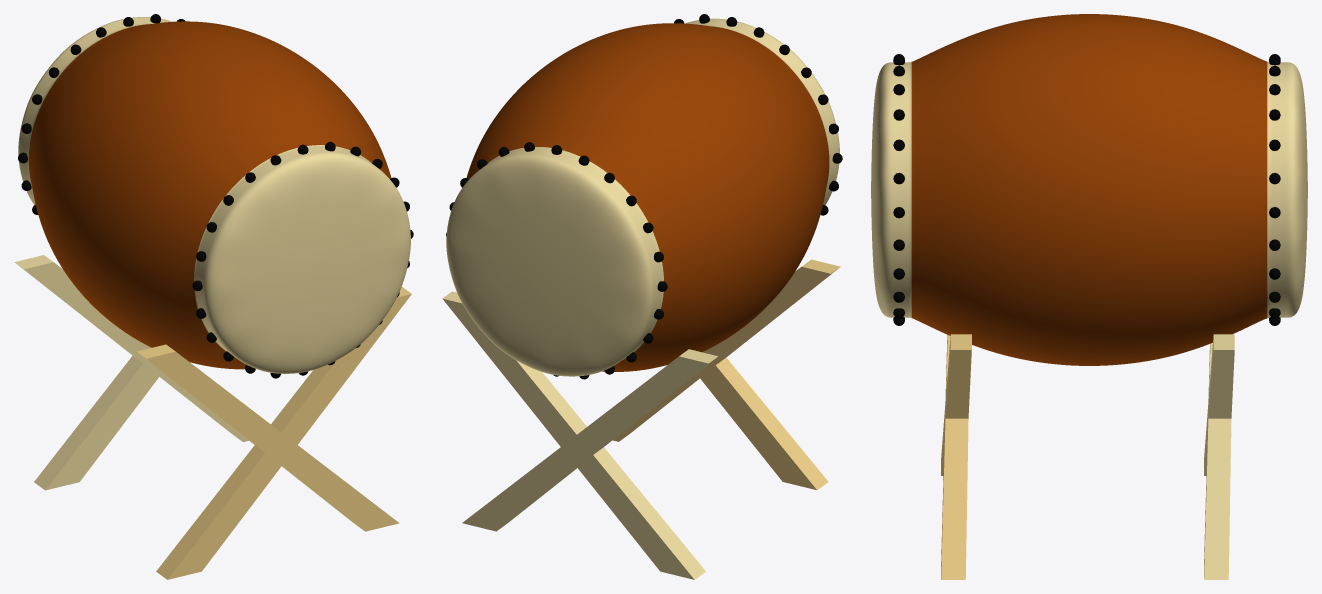
3 renders of one model, left to right at view 1: azimuth 30°, elevation 25°; view 2: azimuth 150°, elevation 25°; view 3: azimuth 270°, elevation 25°, orthographic. The views are drawn at different scales.
Parts seen in each view (by area): view 1: 球, 立方体, 立方体.001, 球.006, 球.026; view 2: 球, 立方体.001, 立方体, 球.026, 球.006; view 3: 球, 立方体, 立方体.001, 球.026, 球.006.
Boxes of the visible parts, box(x1,y1,x2,y2) form: 球: box(18, 17, 410, 373); 立方体: box(137, 287, 411, 579); 立方体.001: box(14, 255, 248, 490); 球.006: box(192, 141, 413, 378); 球.026: box(18, 14, 185, 214); 球: box(446, 18, 839, 376); 立方体.001: box(442, 291, 717, 579); 立方体: box(613, 259, 840, 489); 球.026: box(446, 142, 667, 379); 球.006: box(674, 14, 842, 215); 球: box(871, 14, 1307, 365); 立方体: box(941, 334, 971, 579); 立方体.001: box(1204, 334, 1234, 579); 球.026: box(1269, 54, 1280, 325); 球.006: box(893, 54, 904, 325).
Bounding box in the file's own units: 186 × 285 × 231.
